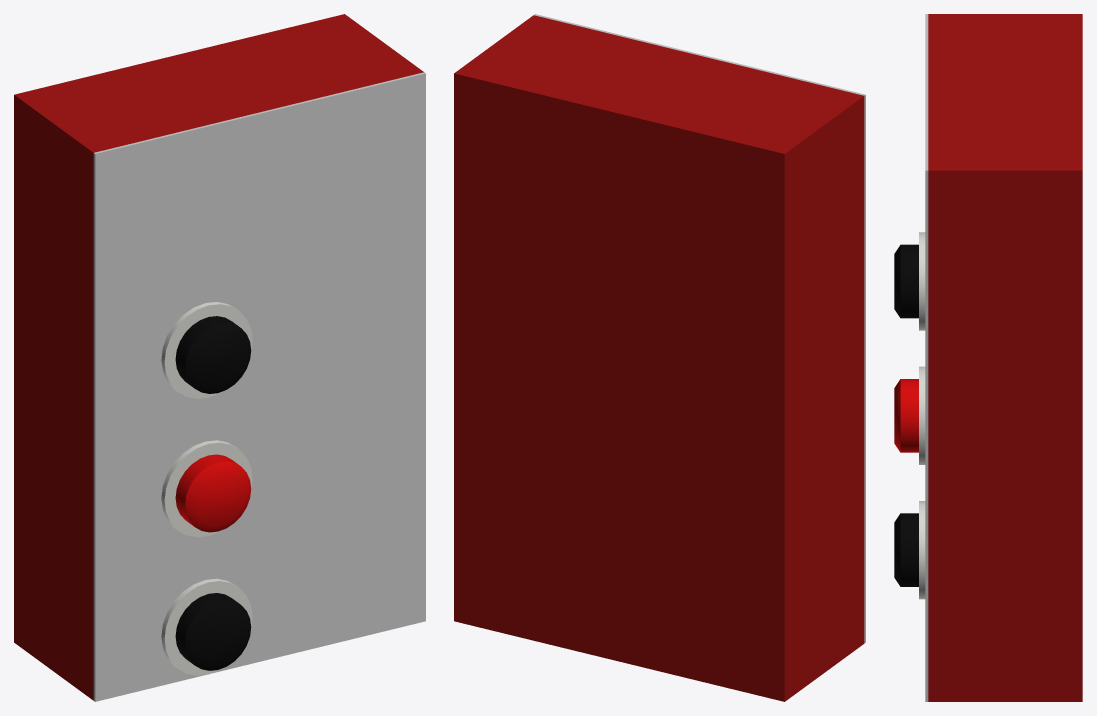
Rendered from ShutterBox.obj.
3 renders of one model, left to right at view 1: azimuth 30°, elevation 25°; view 2: azimuth 150°, elevation 25°; view 3: azimuth 270°, elevation 25°, orthographic. The views are drawn at different scales.
Visible parts, largest first — view 1: ShutterBox; view 2: ShutterBox; view 3: ShutterBox.
Part boxes in pixels (box(x1,y1,x2,y2)): ShutterBox: box(14, 14, 425, 701); ShutterBox: box(454, 14, 865, 701); ShutterBox: box(894, 14, 1082, 701).
Bounding box in the file's own units: 0.12 × 0.19 × 0.061.
